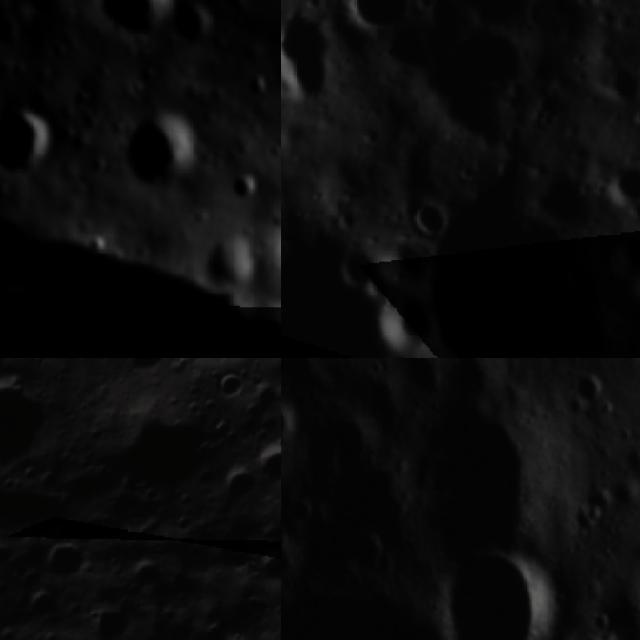crater: (0, 209, 281, 358), (404, 402, 542, 545), (425, 535, 568, 640), (0, 375, 73, 503), (114, 111, 204, 193), (281, 16, 333, 96), (32, 526, 95, 584), (0, 102, 50, 175), (13, 579, 71, 637), (96, 0, 169, 45), (371, 302, 429, 352), (167, 0, 218, 56), (566, 370, 612, 426), (450, 358, 501, 407), (341, 0, 412, 34), (212, 460, 260, 504), (206, 362, 249, 408), (396, 358, 441, 401), (250, 428, 281, 490), (605, 170, 640, 210), (415, 192, 443, 241), (339, 250, 376, 286), (108, 358, 168, 375), (225, 178, 262, 204), (281, 396, 297, 456), (243, 72, 270, 106)
